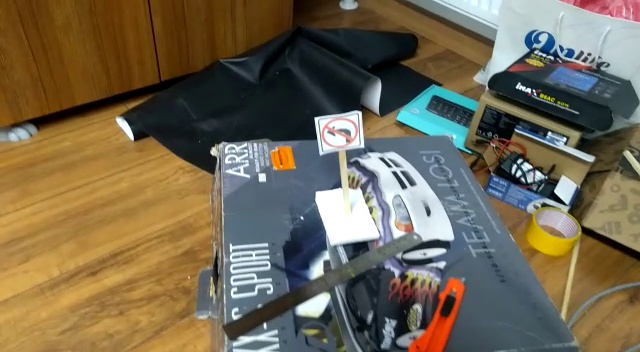sola_donulmez: (320, 112, 362, 152)
